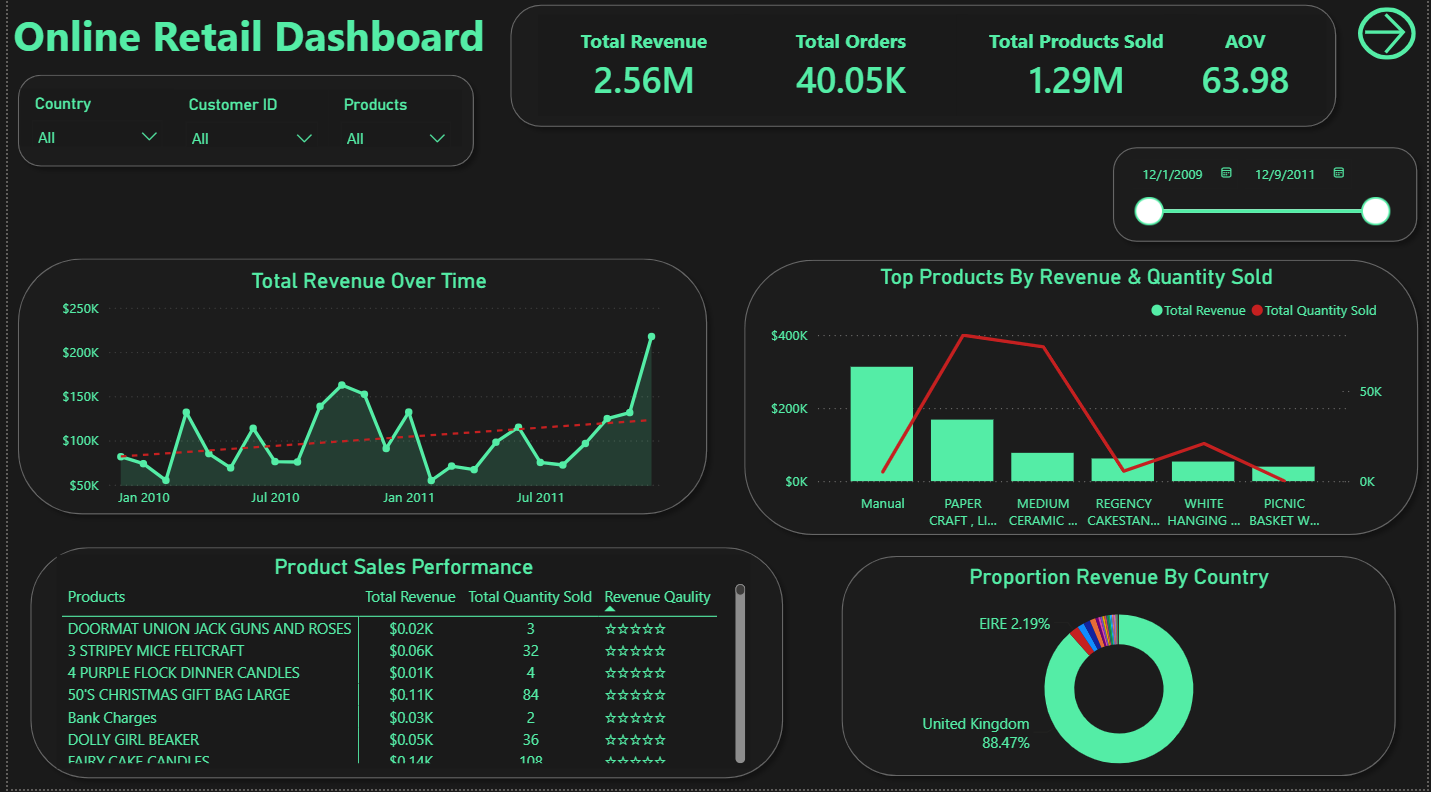

What the dashboard file says about the page in this screenshot:
{"tool":"powerbi","page":{"name":"Base","canvas":[1280,720],"ordinal":0},"visuals":[{"type":"group","id":"g1","title":"Group 1","box":[0,3.8,1280,715.9],"z":0},{"type":"shape","box":[444.1,3.8,762.5,128.1],"z":0,"group":"g1"},{"type":"shape","box":[0,66.9,429.2,100.8],"z":1000,"group":"g1"},{"type":"shape","box":[987.7,131.9,292.3,103.2],"z":1000},{"type":"cardVisual","fields":{"Data":["Sum(Retail.Revenue)"]},"box":[477.7,21.1,191.6,90.8],"z":2000},{"type":"shape","box":[654.3,233.9,625.7,266.2],"z":2000,"group":"g1"},{"type":"cardVisual","fields":{"Data":["Count(Retail.Invoice)"]},"box":[654.3,21.1,210.2,90.8],"z":3000},{"type":"shape","box":[0,233,639.4,248.8],"z":3000,"group":"g1"},{"type":"cardVisual","fields":{"Data":["Sum(Retail.Quantity)"]},"box":[855.8,21.1,216.4,90.8],"z":4000},{"type":"shape","box":[742.6,501.4,517.5,216.4],"z":4000,"group":"g1"},{"type":"cardVisual","fields":{"Data":["Retail.AOV"]},"box":[1042.4,21.1,146.8,90.8],"z":5000},{"type":"shape","box":[11.2,493.3,696.6,226.4],"z":5000,"group":"g1"},{"type":"lineChart","title":"Total Revenue Over Time","fields":{"Y":["Sum(Retail.Revenue)"],"Category":["Retail.InvoiceDate.Variation.Date Hierarchy.Year","Retail.InvoiceDate.Variation.Date Hierarchy.Quarter","Retail.InvoiceDate.Variation.Date Hierarchy.Month","Retail.InvoiceDate.Variation.Date Hierarchy.Day"]},"box":[43.5,250,563.5,225.2],"z":6000},{"type":"lineClusteredColumnComboChart","title":"Top Products By Revenue & Quantity Sold","fields":{"Category":["Retail.Description"],"Y":["Sum(Retail.Revenue)"],"Y2":["Sum(Retail.Quantity)"]},"box":[682.9,246.3,561,246.3],"z":7000},{"type":"pivotTable","title":"Product Sales Performance","fields":{"Rows":["Retail.Description"],"Values":["Sum(Retail.Revenue)","Sum(Retail.Quantity)","Retail.Sum of Revenue star rating"]},"box":[43.5,508.8,625.7,192.8],"z":8000},{"type":"donutChart","title":"Proportion Revenue By Country","fields":{"Category":["Retail.Country"],"Y":["Sum(Retail.Revenue)"]},"box":[762.5,517.5,477.7,202.8],"z":9000},{"type":"textbox","box":[0,8.7,444.1,59.7],"z":10000},{"type":"slicer","fields":{"Values":["Retail.Country"]},"box":[11.6,88.4,138.4,52.3],"z":11000},{"type":"slicer","fields":{"Values":["Retail.Customer ID"]},"box":[150,89.5,139.5,51.2],"z":12000},{"type":"slicer","fields":{"Values":["Retail.Description"]},"box":[289.5,89.5,119.8,51.2],"z":13000},{"type":"slicer","fields":{"Values":["Retail.InvoiceDate"]},"box":[1001.4,140.6,253.8,87.1],"z":14000},{"type":"actionButton","box":[1217.8,14.9,52.2,47.3],"z":15000}]}

Visuals, with their boxes in screenshot pixels (x1, y1, x2, y2), scaled from the page's 1280x720 canvas onto the 1431x792 screenshot:
"Group 1" group: <bbox>0, 4, 1430, 791</bbox>
shape: <bbox>496, 4, 1349, 145</bbox>
shape: <bbox>0, 74, 480, 184</bbox>
shape: <bbox>1104, 145, 1430, 259</bbox>
cardVisual - Sum(Retail.Revenue): <bbox>534, 23, 748, 123</bbox>
shape: <bbox>731, 257, 1430, 550</bbox>
cardVisual - Count(Retail.Invoice): <bbox>731, 23, 966, 123</bbox>
shape: <bbox>0, 256, 715, 530</bbox>
cardVisual - Sum(Retail.Quantity): <bbox>957, 23, 1199, 123</bbox>
shape: <bbox>830, 552, 1409, 790</bbox>
cardVisual - Retail.AOV: <bbox>1165, 23, 1329, 123</bbox>
shape: <bbox>13, 543, 791, 791</bbox>
"Total Revenue Over Time" lineChart: <bbox>49, 275, 679, 523</bbox>
"Top Products By Revenue & Quantity Sold" lineClusteredColumnComboChart: <bbox>763, 271, 1391, 542</bbox>
"Product Sales Performance" pivotTable: <bbox>49, 560, 748, 772</bbox>
"Proportion Revenue By Country" donutChart: <bbox>852, 569, 1387, 791</bbox>
textbox: <bbox>0, 10, 496, 75</bbox>
slicer - Retail.Country: <bbox>13, 97, 168, 155</bbox>
slicer - Retail.Customer ID: <bbox>168, 98, 324, 155</bbox>
slicer - Retail.Description: <bbox>324, 98, 458, 155</bbox>
slicer - Retail.InvoiceDate: <bbox>1120, 155, 1403, 250</bbox>
actionButton: <bbox>1361, 16, 1420, 68</bbox>
